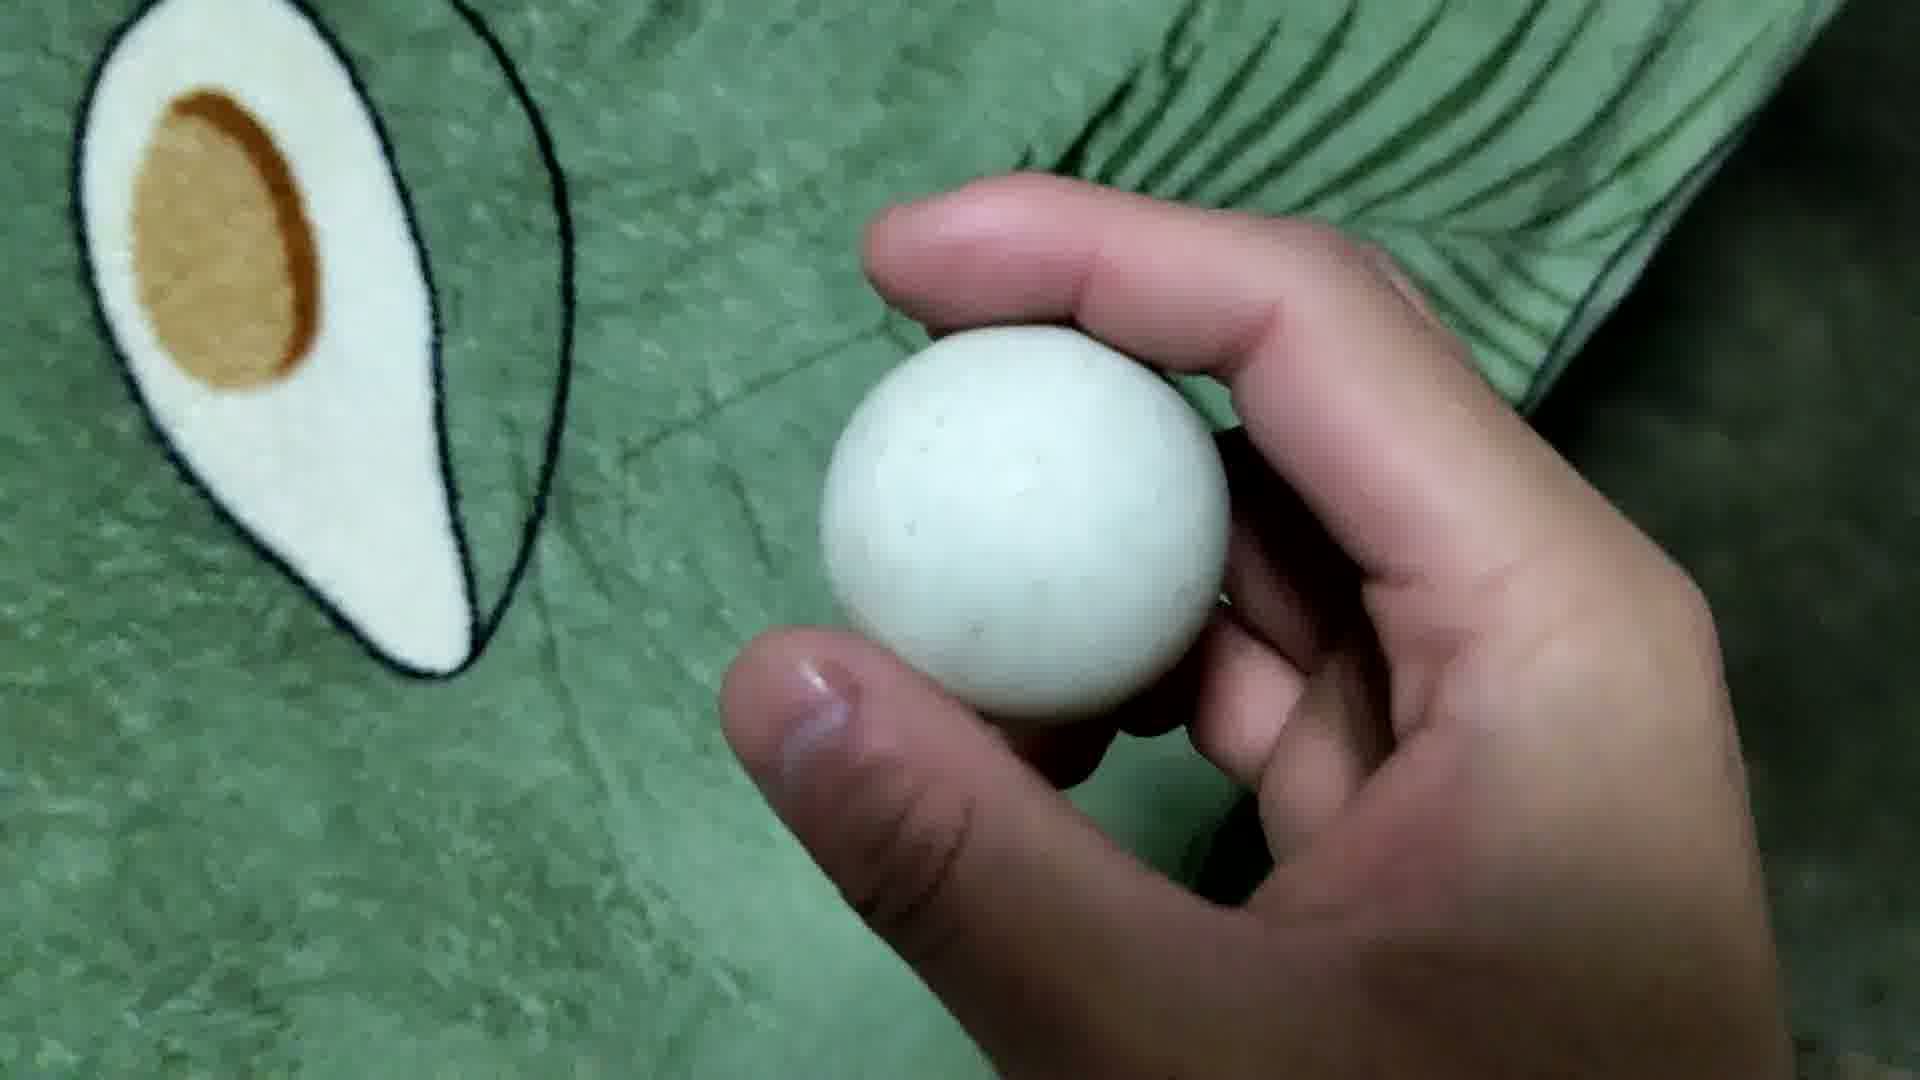Ball: (818, 327, 1230, 719)
